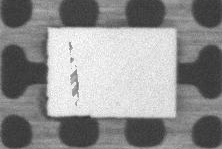DIE_INK: (67, 39, 79, 105)
